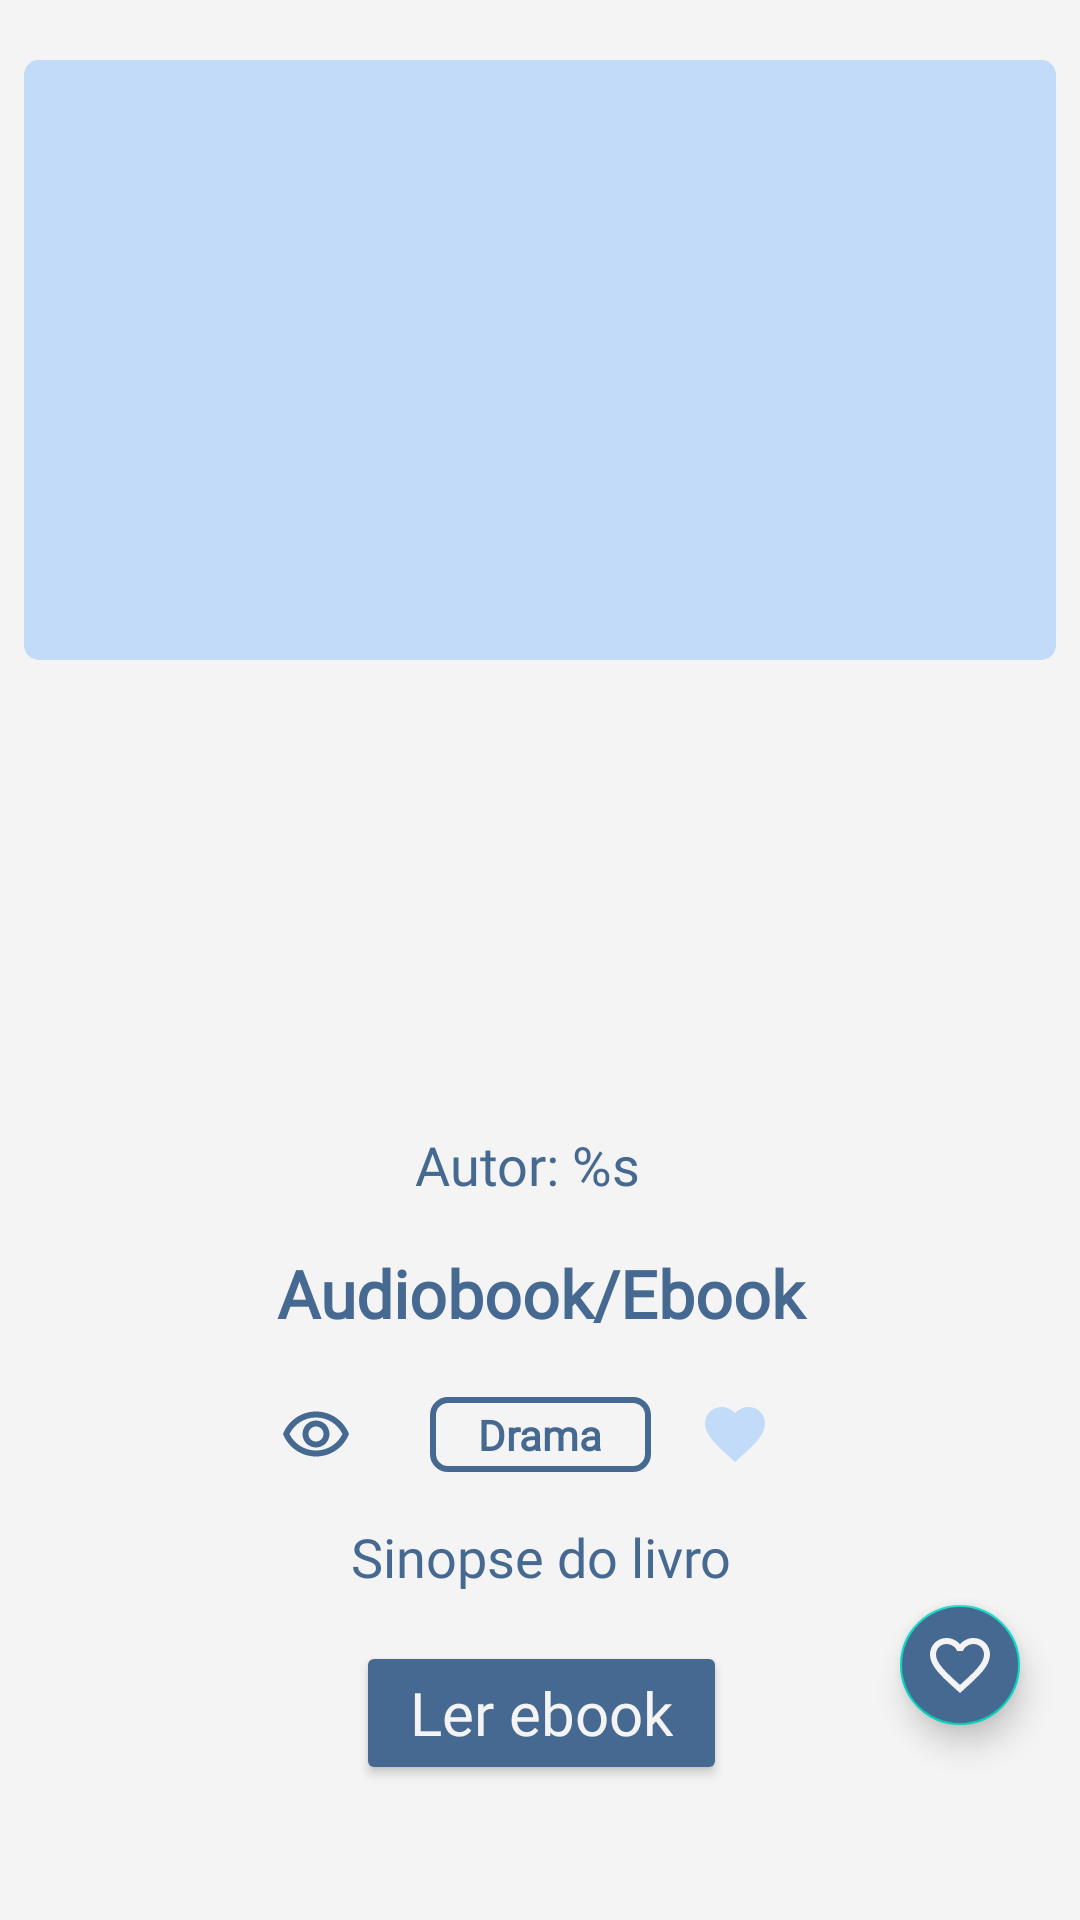

Icons on this 1080w x 1920h Android screen, each with its box as box(x1, y1, x2, y2):
not favorited: box(900, 1605, 1023, 1737)
